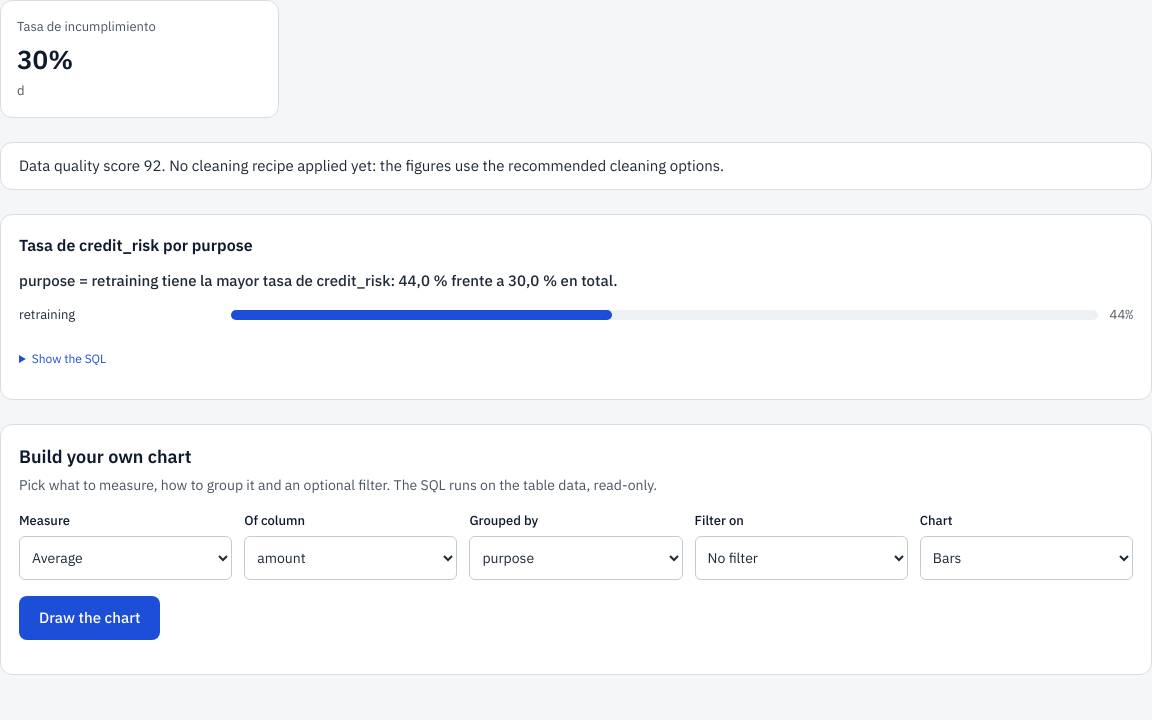
Test: Generic dashboard › the chart builder sends the chosen spec and draws the result as a table
The image size is (1152, 720).
Select "Table" in the dropdown labelled "Chart" at (1026, 558), box [920,536,1133,580]
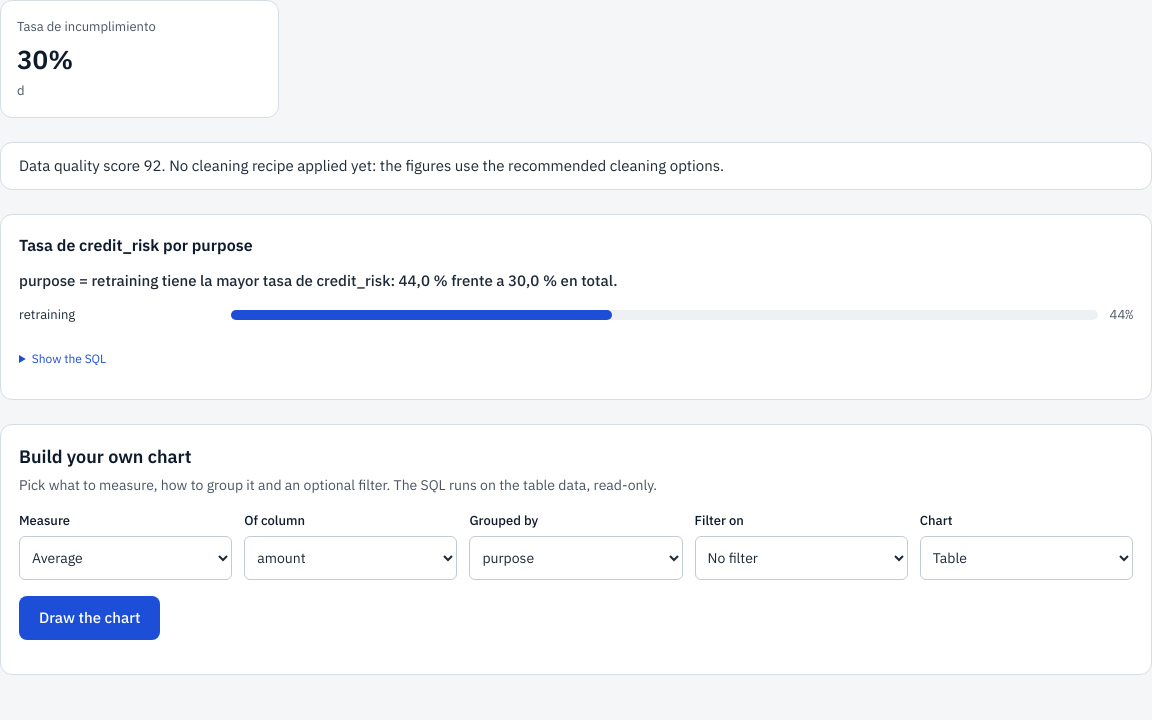
Click the button "Draw the chart" at (90, 618), box [19,596,160,640]
(page scrolled)
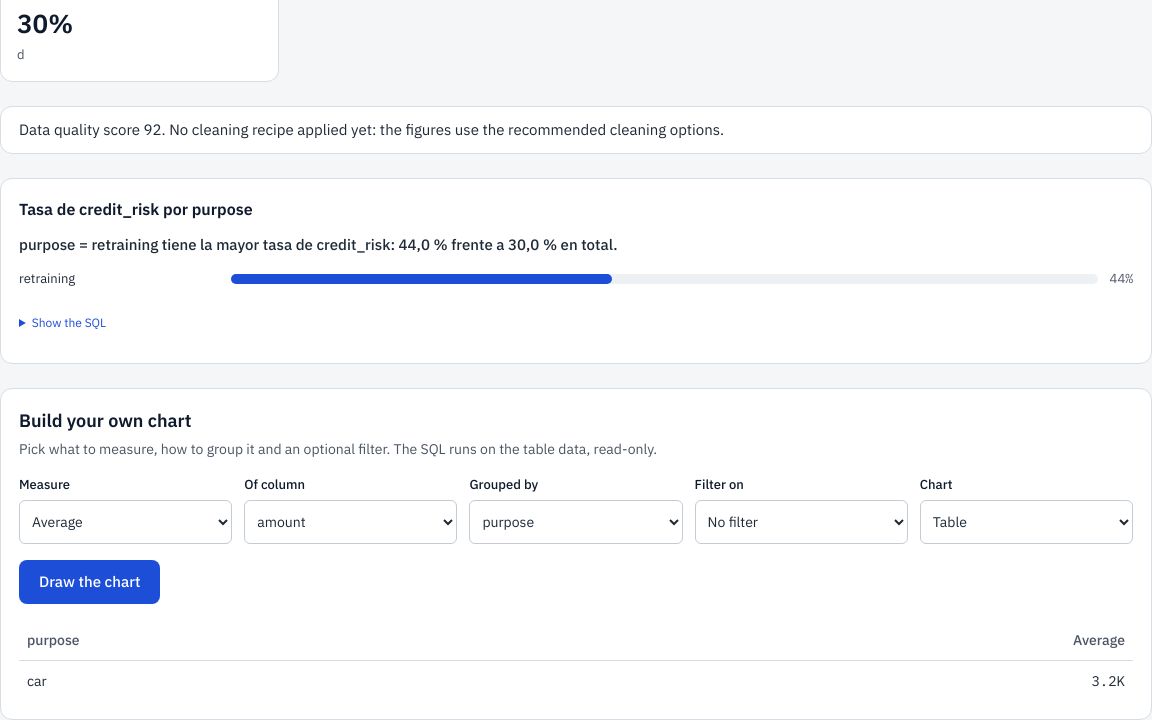
expect the cell "car" is shown: met, box [19,661,579,701]
